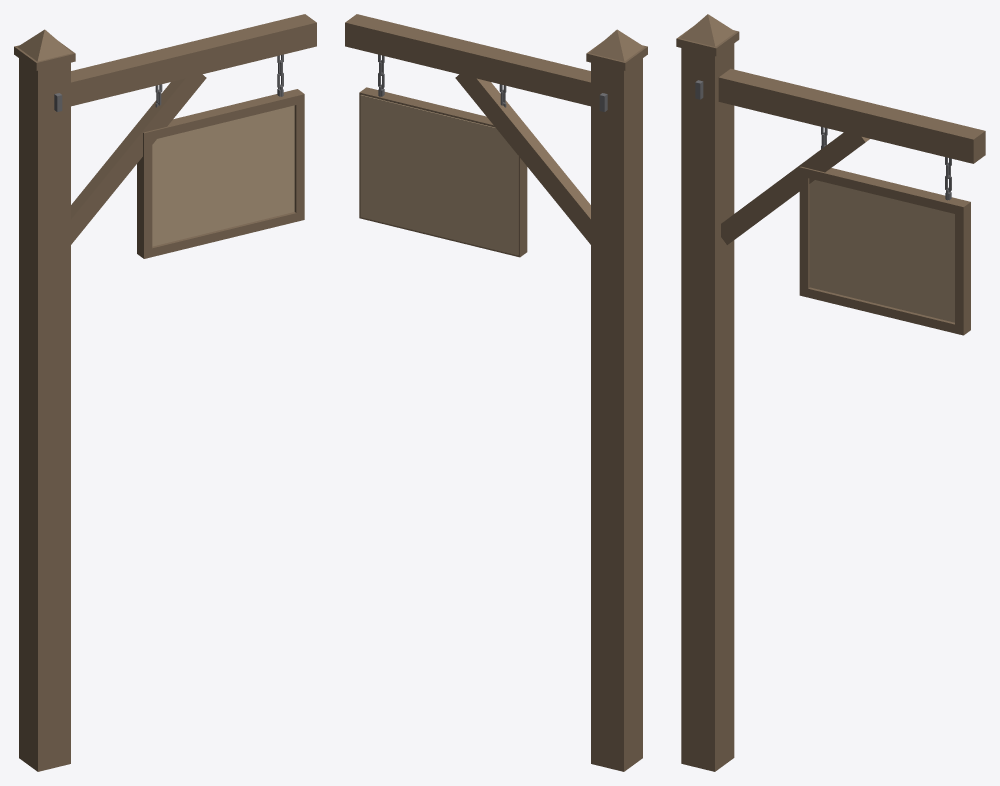
File: hanging_post_4677a4fb.glb
3 views of the same model, side by side, from view 1: azimuth 30°, elevation 25°; view 2: azimuth 150°, elevation 25°; view 3: azimuth 330°, elevation 25° (orthographic). The views are drawn at different scales.
Visible parts, largest first — view 1: post, board, bracket; view 2: post, board, bracket; view 3: post, board, bracket.
Part boxes in pixels (left/top/right/bottom): post: left=14, top=14, right=316, bottom=771; board: left=137, top=89, right=304, bottom=258; bracket: left=54, top=54, right=283, bottom=111; post: left=345, top=14, right=647, bottom=771; board: left=359, top=87, right=527, bottom=257; bracket: left=378, top=54, right=607, bottom=111; post: left=676, top=14, right=985, bottom=771; board: left=799, top=166, right=970, bottom=335; bracket: left=695, top=80, right=951, bottom=200.
Bounding box in the file's own units: 1.13 × 2.76 × 0.17.
